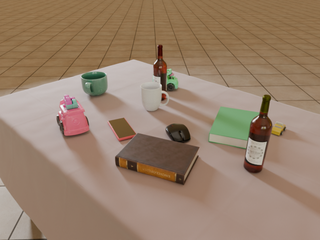book: (115, 133, 199, 185), (209, 107, 259, 149)
bottle: (244, 95, 273, 173), (153, 45, 167, 100)
cup: (141, 82, 169, 111), (81, 72, 108, 96)
mouse: (166, 124, 190, 143)
phone: (108, 118, 136, 141)
toy_car: (57, 95, 89, 135), (167, 69, 178, 91), (271, 122, 286, 135)
